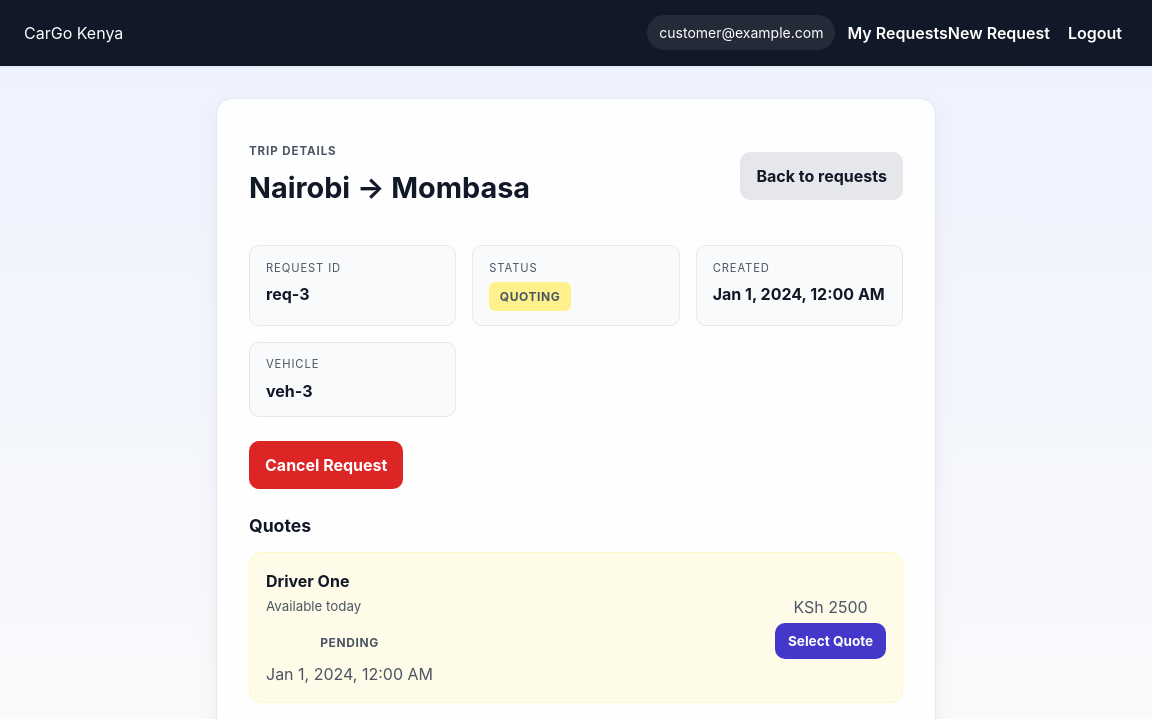
Test: customer foundation workflow › discovers the trip after selecting a quote
This screenshot has width=1152, height=719.
Click the button "Select Quote". click: (831, 641)
box: [775,623,886,660]
(page scrolled)
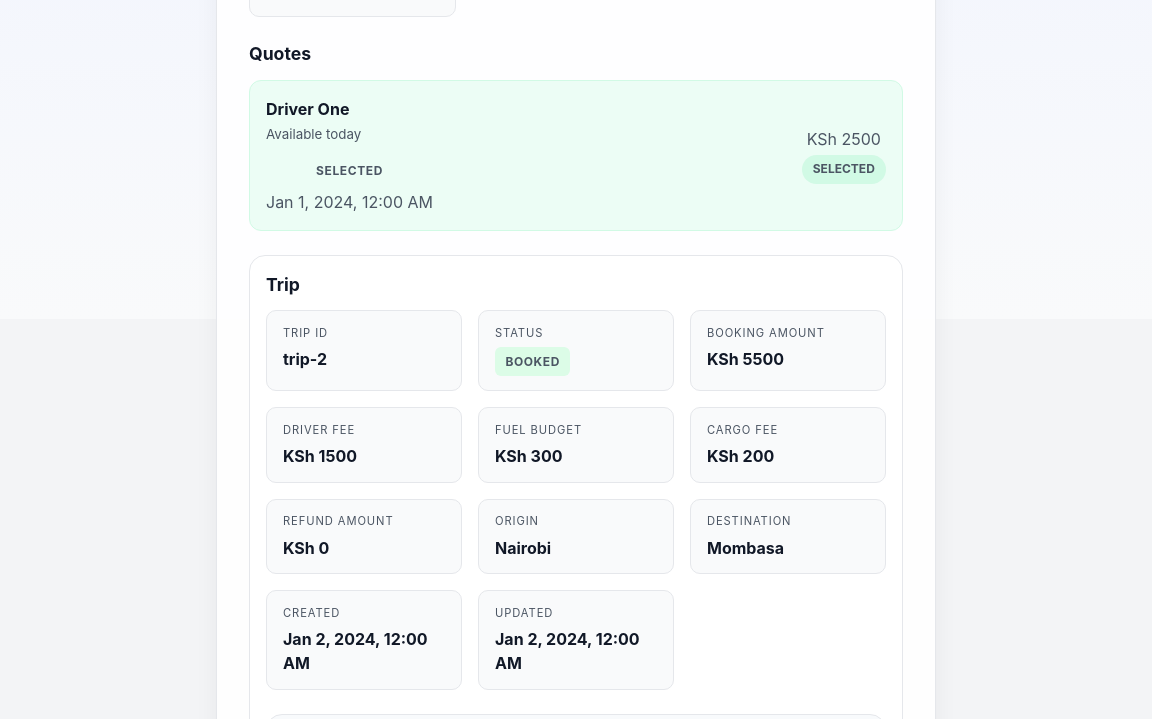
Result: the text "Trip ID" is shown at [283,326,328,340]
Result: the text "trip-2" is shown at [283,349,327,369]
